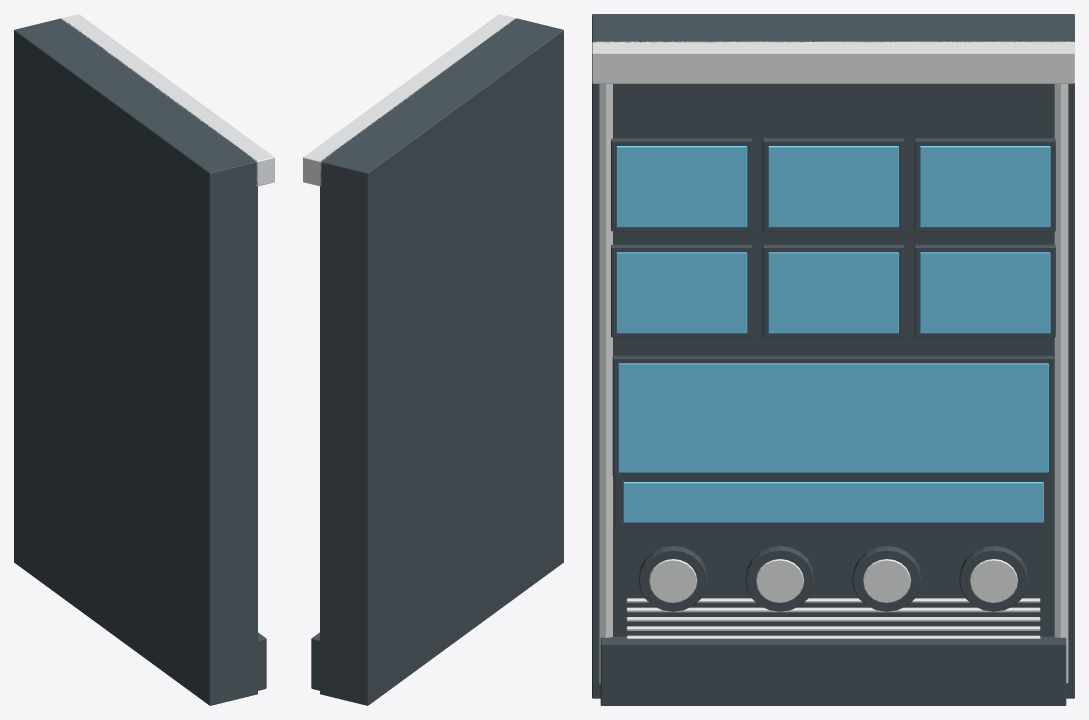
The model's file is SM_Bridge_WallBank.fbx.
The picture shows the model from 3 angles, left to right: view 1: azimuth 30°, elevation 25°; view 2: azimuth 150°, elevation 25°; view 3: azimuth 270°, elevation 25°; orthographic projection. The views are drawn at different scales.
Parts seen in each view (by area): view 1: SM_Bridge_WallBank; view 2: SM_Bridge_WallBank; view 3: SM_Bridge_WallBank.
Part boxes in pixels (x1,y1,x2,y2): SM_Bridge_WallBank: [14, 14, 274, 705]; SM_Bridge_WallBank: [303, 14, 563, 705]; SM_Bridge_WallBank: [592, 14, 1074, 705].
Bounding box in the file's own units: 54 × 420 × 280.
